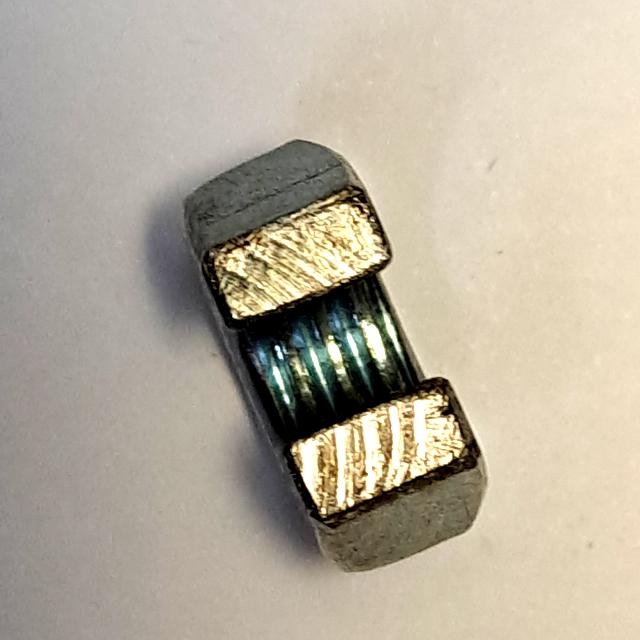Side-Fracture: (175, 124, 502, 587)
